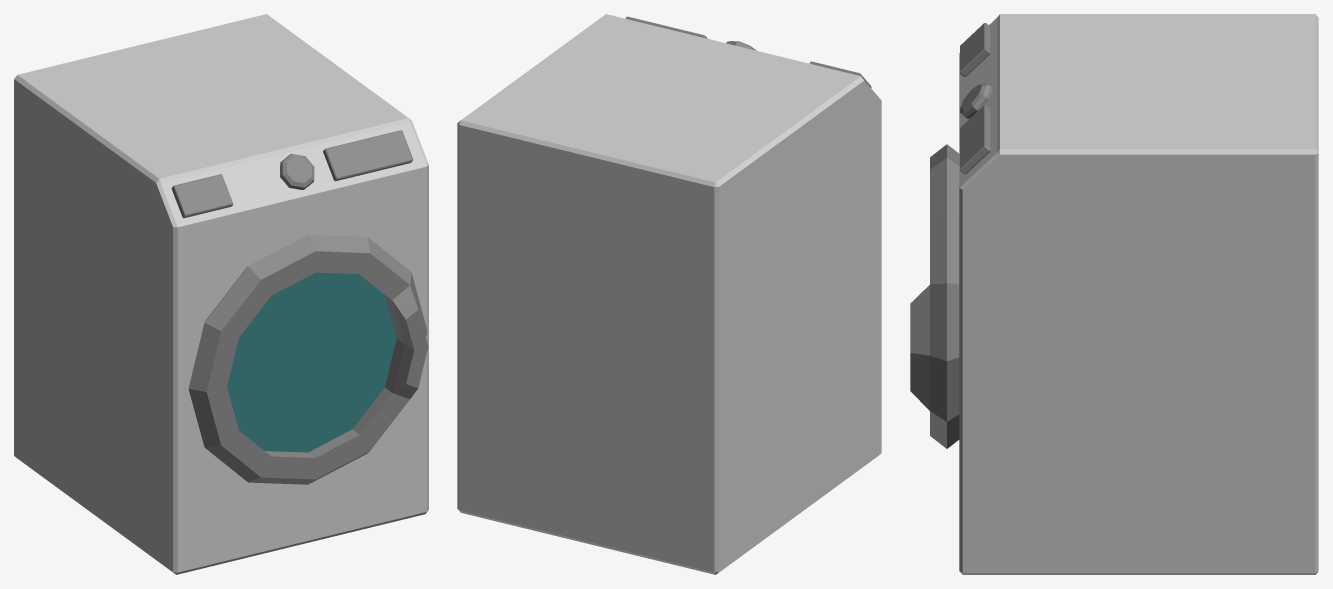
File: Washing Machine.glb
3 views of the same model, side by side, from view 1: azimuth 30°, elevation 25°; view 2: azimuth 150°, elevation 25°; view 3: azimuth 270°, elevation 25° (orthographic). The views are drawn at different scales.
Parts seen in each view (by area): view 1: Washing machine, Washing machine.001; view 2: Washing machine; view 3: Washing machine, Washing machine.001.
Boxes of the visible parts, left/top/right/bottom form: Washing machine: left=14, top=14, right=428, bottom=574; Washing machine.001: left=188, top=234, right=428, bottom=484; Washing machine: left=457, top=14, right=881, bottom=574; Washing machine: left=959, top=14, right=1318, bottom=574; Washing machine.001: left=910, top=144, right=959, bottom=448.
Bounding box in the file's own units: 0.6101 × 0.8745 × 0.7597.
